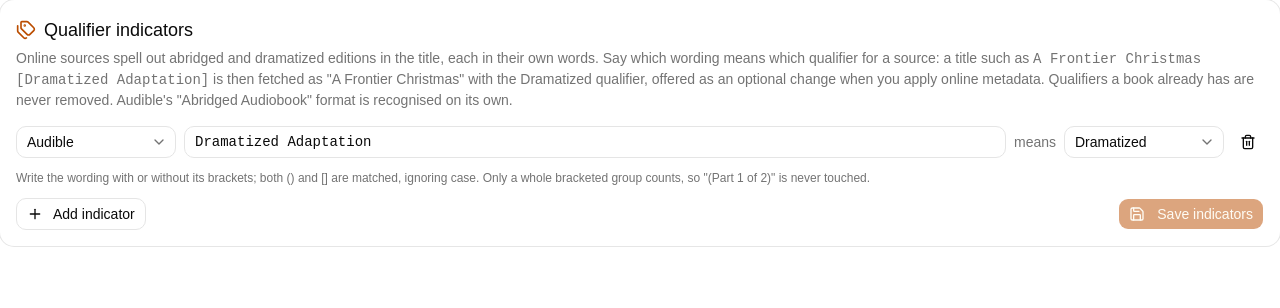
Test case: QualifierIndicatorsCard › does not let an empty row be saved
Expected: the field showing "Dramatized Adaptation" is shown, [184,126,1006,158]
Click the button "Add indicator". click: [81, 214]
box: [16,198,146,230]
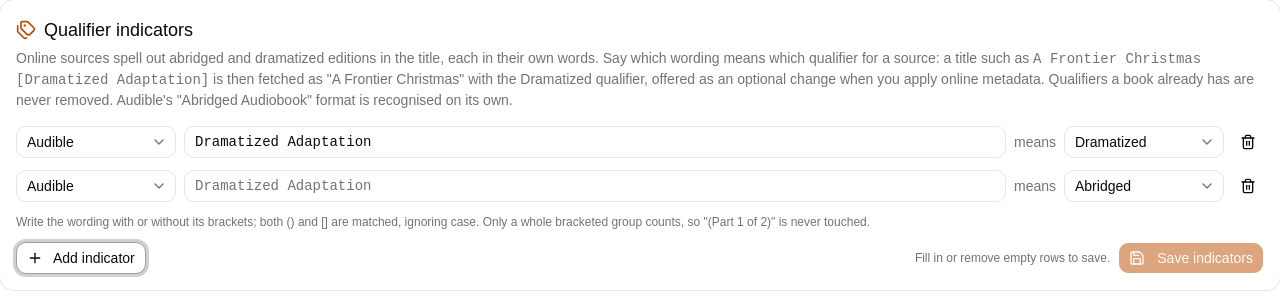
Expected: the button "Save indicators" is disabled, [1118,242,1264,274]
Result: the text "Fill in or remove empty rows to save." is shown at [915,250,1110,266]
